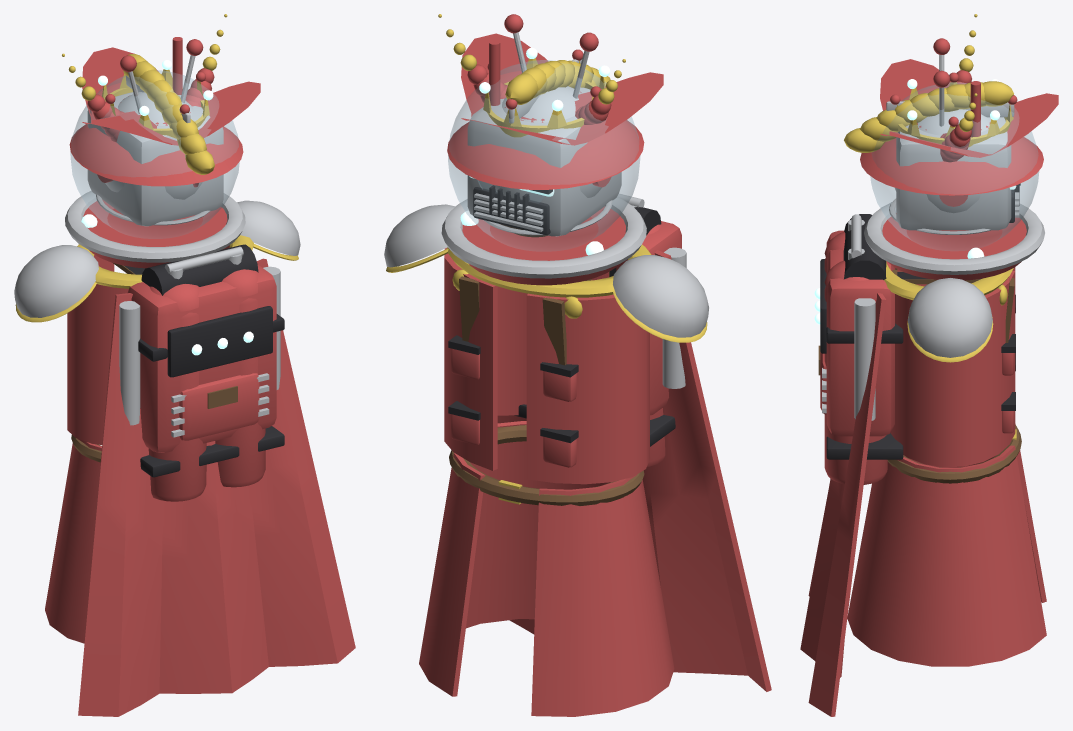
The model's file is accessoires.glb.
3 renders of one model, left to right at view 1: azimuth 30°, elevation 25°; view 2: azimuth 150°, elevation 25°; view 3: azimuth 270°, elevation 25°, orthographic. The views are drawn at different scales.
Parts seen in each view (by area): view 1: acc_cape, acc_bubble, acc_box, acc_tank, acc_coat, acc_antenna, acc_vest, acc_bag, acc_bucket, acc_knight, acc_epaule_G, acc_tricorne (+4 smaller); view 2: acc_coat, acc_vest, acc_bubble, acc_cape, acc_antenna, acc_bucket, acc_epaule_G, acc_knight, acc_tricorne, acc_box, acc_epaule_D, acc_bag (+4 smaller); view 3: acc_coat, acc_bubble, acc_vest, acc_cape, acc_box, acc_antenna, acc_knight, acc_bucket, acc_epaule_D, acc_tank, acc_tricorne, acc_bag (+3 smaller).
Part boxes in pixels (box(x1,y1,x2,y2)): acc_cape: box(77, 235, 355, 716); acc_bubble: box(65, 70, 245, 268); acc_box: box(119, 264, 280, 452); acc_tank: box(124, 246, 284, 501); acc_coat: box(45, 435, 101, 643); acc_antenna: box(87, 39, 223, 226); acc_vest: box(67, 245, 229, 444); acc_bag: box(113, 244, 259, 440); acc_bucket: box(69, 124, 243, 186); acc_knight: box(96, 54, 214, 225); acc_epaule_G: box(14, 245, 98, 322); acc_tricorne: box(82, 47, 260, 145); acc_coat: box(419, 421, 674, 716); acc_vest: box(444, 248, 649, 484); acc_bubble: box(441, 60, 646, 285); acc_cape: box(447, 244, 771, 691); acc_antenna: box(467, 14, 621, 236); acc_bucket: box(447, 120, 644, 189); acc_epaule_G: box(613, 255, 708, 342); acc_knight: box(483, 59, 612, 235); acc_tricorne: box(461, 33, 663, 145); acc_box: box(590, 221, 686, 415); acc_epaule_D: box(384, 204, 455, 272); acc_bag: box(459, 207, 661, 365); acc_coat: box(847, 424, 1046, 666); acc_bubble: box(864, 82, 1044, 280); acc_vest: box(890, 267, 1015, 467); acc_cape: box(800, 261, 1013, 716); acc_box: box(814, 230, 894, 436); acc_antenna: box(896, 38, 1019, 230); acc_knight: box(844, 81, 1020, 234); acc_bucket: box(860, 137, 1043, 195); acc_epaule_D: box(907, 278, 993, 362); acc_tank: box(824, 214, 981, 484); acc_tricorne: box(880, 59, 1058, 157); acc_bag: box(818, 214, 1014, 414).
Bounding box in the file's own units: 0.7532 × 1.54 × 0.606.
